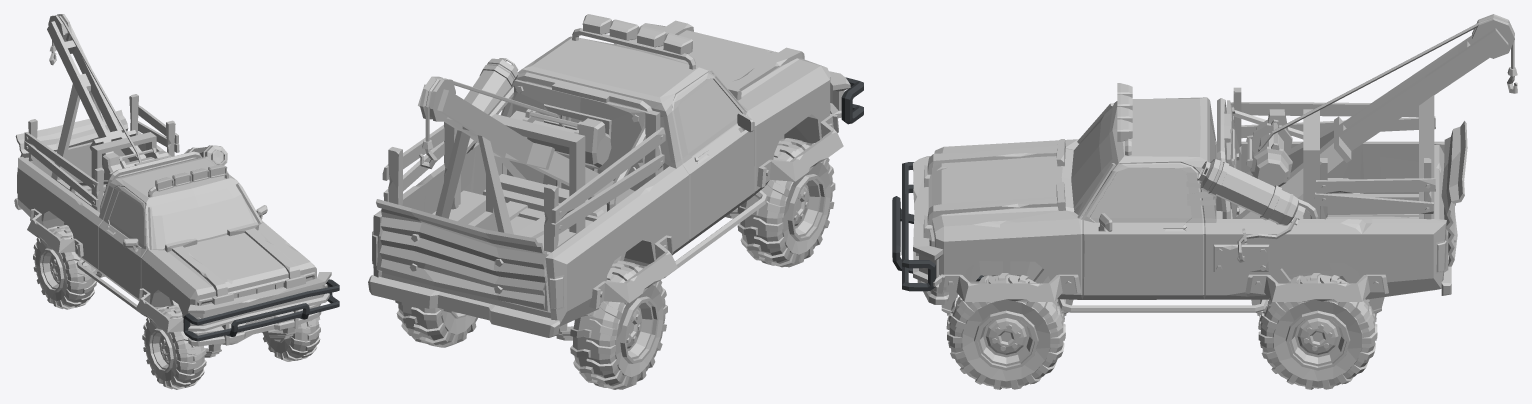
Rendered from car3.fbx.
The picture shows the model from 3 angles, left to right: view 1: azimuth 30°, elevation 25°; view 2: azimuth 150°, elevation 25°; view 3: azimuth 270°, elevation 25°; orthographic projection. The views are drawn at different scales.
Parts seen in each view (by area): view 1: SM_Veh_Ute_01, SM_Veh_Ute_Armour_01, SM_Veh_Ute_TowHook_01, SM_Veh_Ute_01_Glass, SM_Veh_Ute_Wheel_fr, SM_Veh_Ute_Wheel_rr, SM_Veh_Attach_Bumper_01, SM_Veh_Ute_Wheel_fl, SM_Veh_Ute_Lights_01, SM_Veh_Ute_Rear_Flap_01; view 2: SM_Veh_Ute_01, SM_Veh_Ute_Armour_01, SM_Veh_Ute_TowHook_01, SM_Veh_Ute_Wheel_rr, SM_Veh_Ute_Wheel_fr, SM_Veh_Ute_01_Glass, SM_Veh_Ute_Lights_01, SM_Veh_Ute_Wheel_rl, SM_Veh_Attach_Bumper_01, SM_Veh_Ute_Rear_Flap_01; view 3: SM_Veh_Ute_01, SM_Veh_Ute_Armour_01, SM_Veh_Ute_TowHook_01, SM_Veh_Ute_Wheel_fl, SM_Veh_Ute_Wheel_rl, SM_Veh_Ute_01_Glass, SM_Veh_Attach_Bumper_01, SM_Veh_Ute_Lights_01, SM_Veh_Ute_Rear_Flap_01.
Boxes of the visible parts, x1,y1,x2,y2 form: SM_Veh_Ute_01: [14, 131, 321, 357]; SM_Veh_Ute_Armour_01: [15, 94, 331, 332]; SM_Veh_Ute_TowHook_01: [47, 14, 169, 208]; SM_Veh_Ute_01_Glass: [109, 186, 254, 249]; SM_Veh_Ute_Wheel_fr: [142, 305, 206, 389]; SM_Veh_Ute_Wheel_rr: [33, 225, 96, 309]; SM_Veh_Attach_Bumper_01: [183, 279, 339, 341]; SM_Veh_Ute_Wheel_fl: [263, 316, 320, 361]; SM_Veh_Ute_Lights_01: [148, 164, 228, 197]; SM_Veh_Ute_Rear_Flap_01: [26, 142, 129, 181]; SM_Veh_Ute_01: [368, 23, 833, 340]; SM_Veh_Ute_Armour_01: [376, 20, 850, 309]; SM_Veh_Ute_TowHook_01: [418, 76, 634, 247]; SM_Veh_Ute_Wheel_rr: [570, 260, 667, 389]; SM_Veh_Ute_Wheel_fr: [737, 138, 835, 267]; SM_Veh_Ute_01_Glass: [558, 78, 740, 156]; SM_Veh_Ute_Lights_01: [572, 14, 695, 69]; SM_Veh_Ute_Wheel_rl: [395, 300, 477, 347]; SM_Veh_Attach_Bumper_01: [841, 77, 863, 124]; SM_Veh_Ute_Rear_Flap_01: [376, 227, 551, 312]; SM_Veh_Ute_01: [917, 97, 1451, 316]; SM_Veh_Ute_Armour_01: [913, 87, 1467, 301]; SM_Veh_Ute_TowHook_01: [1216, 14, 1517, 218]; SM_Veh_Ute_Wheel_fl: [946, 273, 1065, 389]; SM_Veh_Ute_Wheel_rl: [1258, 273, 1377, 389]; SM_Veh_Ute_01_Glass: [1071, 107, 1215, 222]; SM_Veh_Attach_Bumper_01: [892, 162, 983, 291]; SM_Veh_Ute_Lights_01: [1117, 83, 1132, 155]; SM_Veh_Ute_Rear_Flap_01: [1434, 145, 1448, 272].
Bounding box in the file's own units: 258 × 360 × 620.
